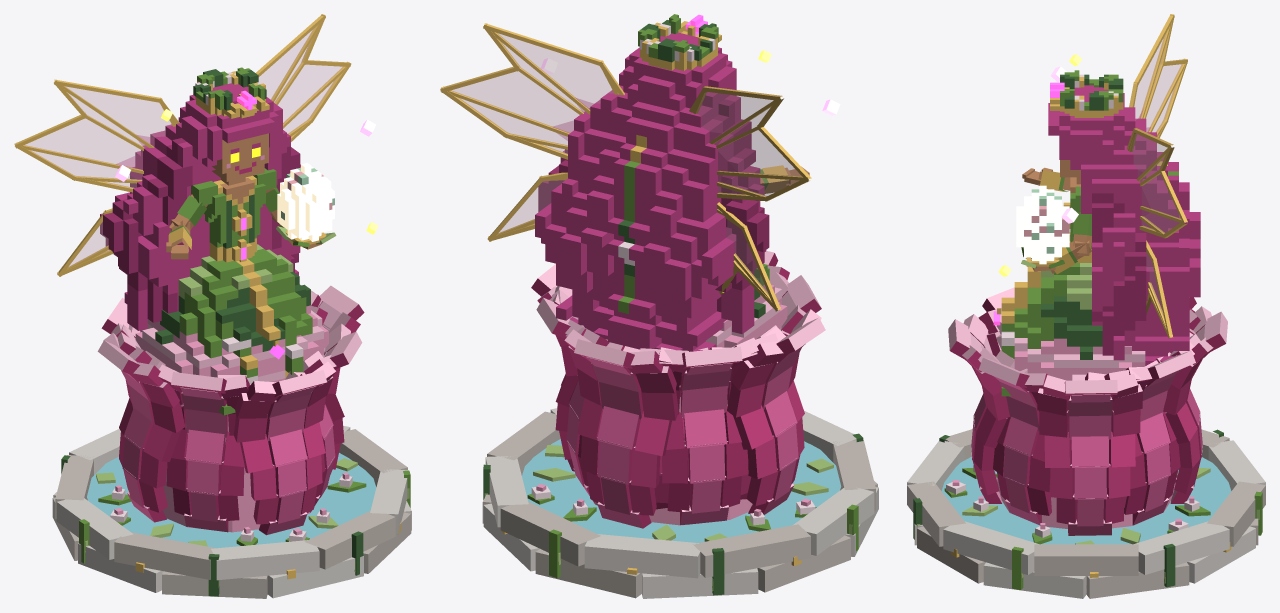
File: Lobby_FairyNPC.glb
3 renders of one model, left to right at view 1: azimuth 30°, elevation 25°; view 2: azimuth 150°, elevation 25°; view 3: azimuth 270°, elevation 25°, orthographic. The views are drawn at different scales.
Visible parts, largest first — view 1: Bud, Pool, Body, Hair, WingUpperR, WingUpperL, Egg, ArmWelcome, WingLowerR, ArmEgg; view 2: Hair, Bud, Pool, WingUpperL, WingUpperR, Body, WingLowerR, WingLowerL, ArmWelcome; view 3: Bud, Pool, Hair, Body, WingUpperL, WingUpperR, Egg, ArmEgg, WingLowerL, ArmWelcome.
Boxes of the visible parts, x1,y1,x2,y2 form: Bud: (97,285,366,545); Pool: (52,426,411,598); Body: (135,67,328,415); Hair: (100,83,300,330); WingUpperR: (14,79,179,192); WingUpperL: (256,14,351,141); Egg: (277,163,334,241); ArmWelcome: (166,181,217,259); WingLowerR: (57,208,113,276); ArmEgg: (253,168,336,249); Hair: (535,32,769,351); Bud: (531,251,828,540); Pool: (482,408,878,598); WingUpperL: (440,23,624,159); WingUpperR: (689,86,811,201); Body: (638,14,787,347); WingLowerR: (717,202,780,311); WingLowerL: (487,172,567,241); ArmWelcome: (760,165,809,193); Bud: (948,287,1227,544); Pool: (907,429,1265,598); Hair: (1048,85,1200,370); Body: (993,70,1145,396); WingUpperL: (1126,128,1187,238); WingUpperR: (1129,14,1187,138); Egg: (1016,185,1069,264); ArmEgg: (1021,186,1091,274); WingLowerL: (1146,240,1172,338); ArmWelcome: (1022,167,1070,191).
Bounding box in the file's own units: 3.56 × 4.5 × 3.3.
